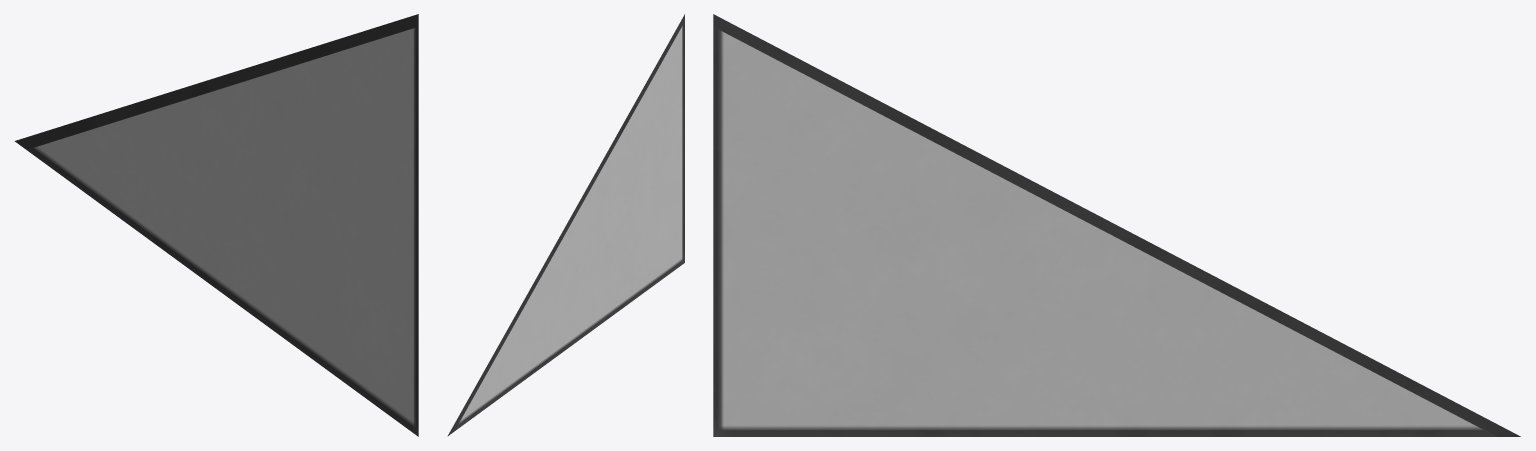
File: SM_MFloor02-StepsSide-50-1.FBX
3 renders of one model, left to right at view 1: azimuth 30°, elevation 25°; view 2: azimuth 150°, elevation 25°; view 3: azimuth 270°, elevation 25°, orthographic. The views are drawn at different scales.
Visible parts, largest first — view 1: SM_MFloor02-StepsSide-50-1; view 2: SM_MFloor02-StepsSide-50-1; view 3: SM_MFloor02-StepsSide-50-1.
Boxes of the visible parts, box(x1,y1,x2,y2) form: SM_MFloor02-StepsSide-50-1: box(14, 14, 418, 436); SM_MFloor02-StepsSide-50-1: box(447, 14, 684, 436); SM_MFloor02-StepsSide-50-1: box(713, 14, 1520, 436).
Size of what is drawn, in the model's own units: 8.77e-06 by 86.6 by 50.
